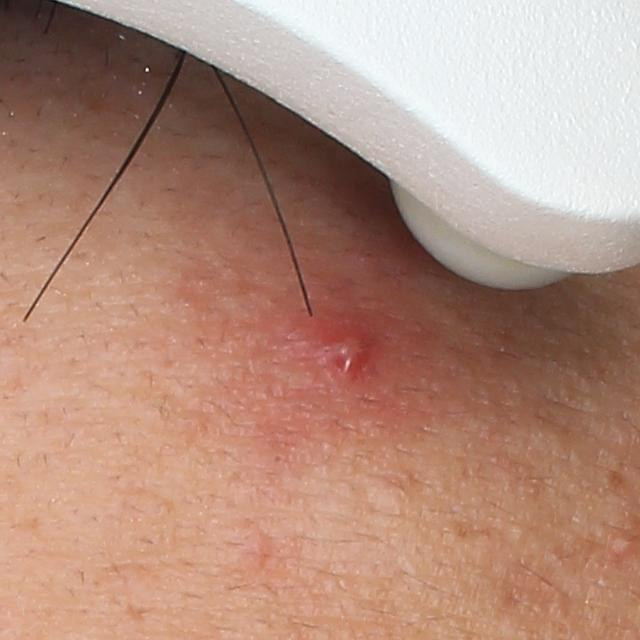papule: (605, 529, 640, 559)
